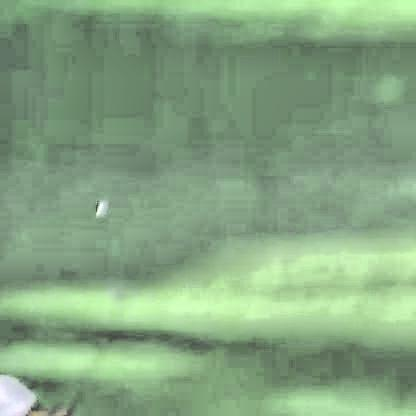golfball: (92, 190, 105, 214)
